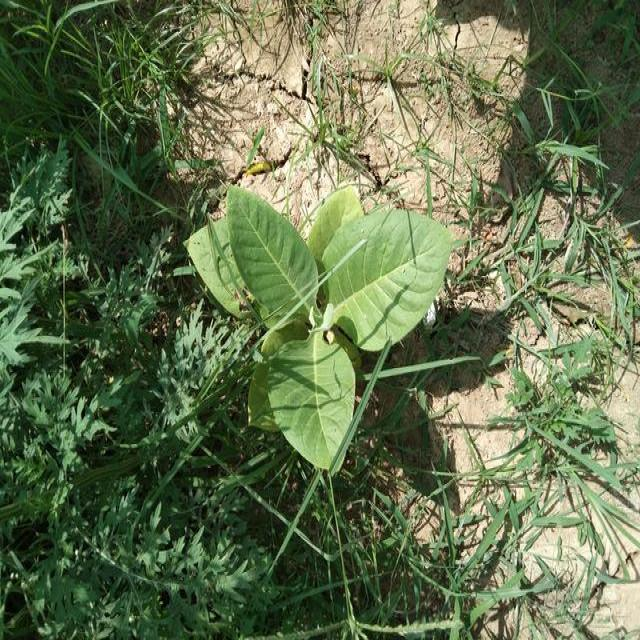crop: (196, 190, 440, 470)
